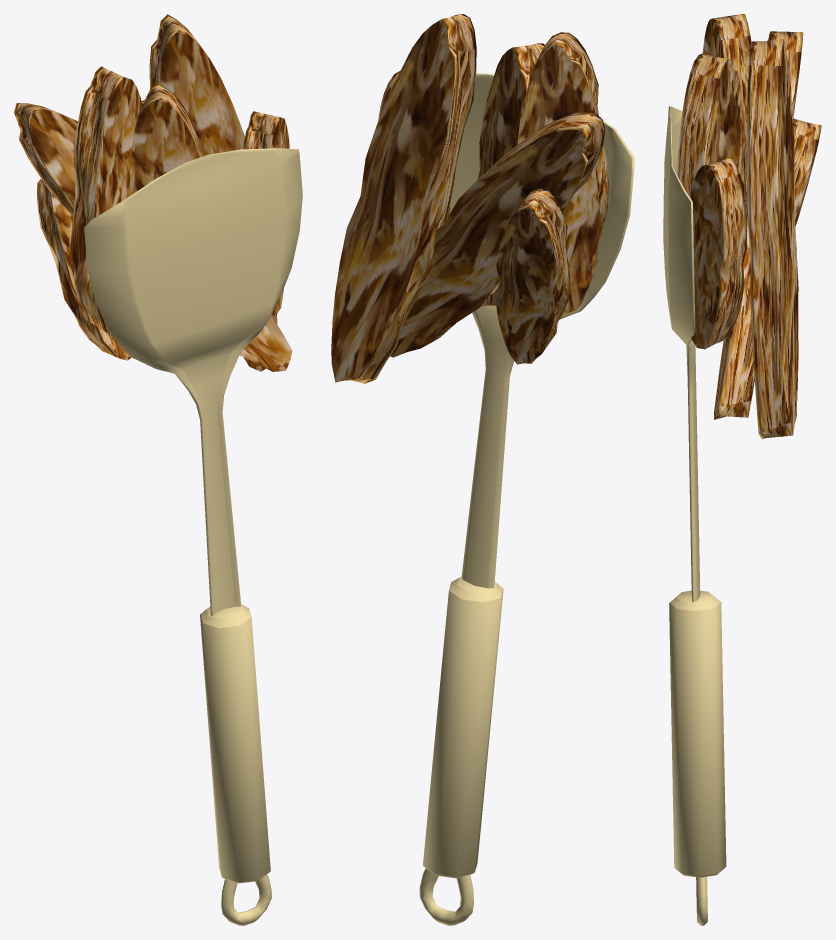
File: Cuchara_con_pollo.fbx
3 views of the same model, side by side, from view 1: azimuth 30°, elevation 25°; view 2: azimuth 150°, elevation 25°; view 3: azimuth 270°, elevation 25° (orthographic). The views are drawn at different scales.
Visible parts, largest first — view 1: Cuchara, Pollo.005, Pollo.028, Pollo.026, Pollo.003, Pollo.029, Pollo.027; view 2: Cuchara, Pollo.028, Pollo.026, Pollo.029, Pollo.005, Pollo.003; view 3: Cuchara, Pollo.028, Pollo.027, Pollo.003, Pollo.026, Pollo.005, Pollo.029.
Boxes of the visible parts, x1,y1,x2,y2 form: Cuchara: (84,148,302,925); Pollo.005: (70,66,142,336); Pollo.028: (149,14,277,371); Pollo.026: (14,103,292,371); Pollo.003: (131,83,204,192); Pollo.029: (37,179,131,360); Pollo.027: (243,111,289,316); Cuchara: (419,73,634,925); Pollo.028: (331,14,476,383); Pollo.026: (390,111,604,357); Pollo.029: (495,188,570,364); Pollo.005: (517,32,608,316); Pollo.003: (477,43,544,306); Cuchara: (663,106,726,925); Pollo.028: (747,38,798,439); Pollo.027: (691,157,746,349); Pollo.003: (676,53,741,198); Pollo.026: (714,31,803,419); Pollo.005: (702,14,751,199); Pollo.029: (793,118,821,226).
Size of the model in its own units: 29.89 by 103 by 17.12.
